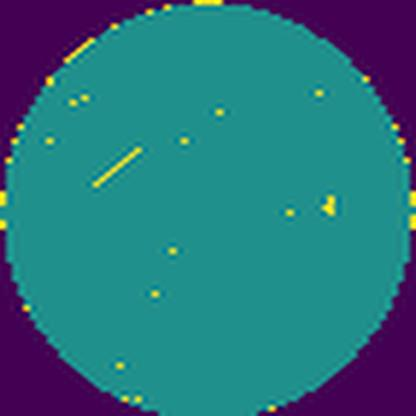Scratch: (80, 144, 150, 192)
